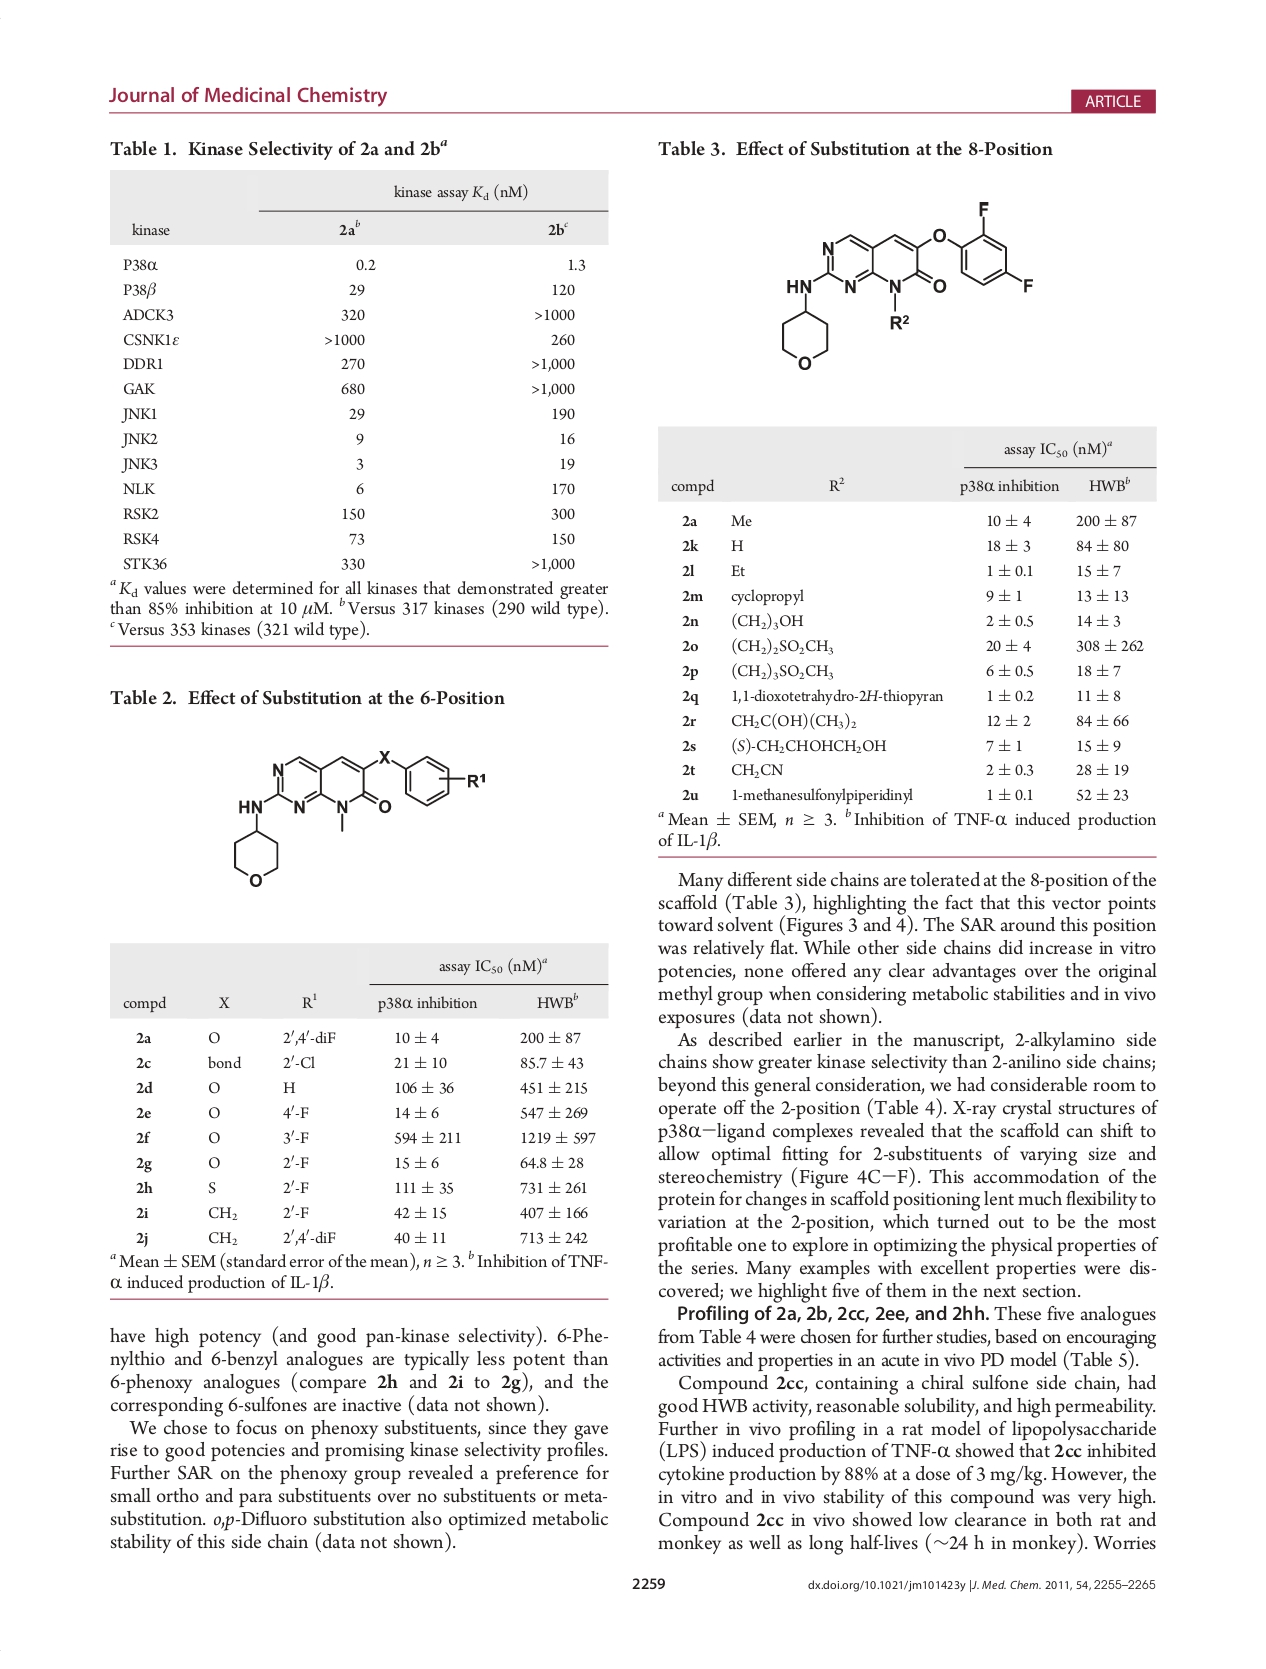exist_molecular: (771, 195, 1035, 372), (226, 743, 488, 890)
